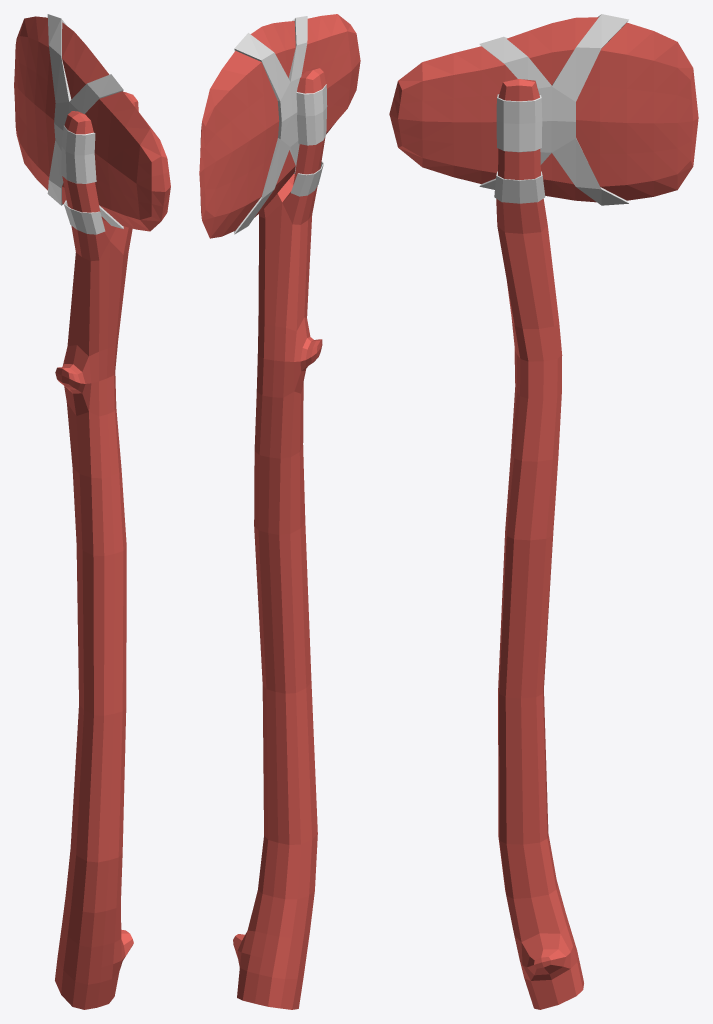
File: stone_axe_a03.fbx
The picture shows the model from 3 angles, left to right: view 1: azimuth 30°, elevation 25°; view 2: azimuth 150°, elevation 25°; view 3: azimuth 270°, elevation 25°; orthographic projection. The views are drawn at different scales.
Visible parts, largest first — view 1: Stiel, Kopf, Leder; view 2: Stiel, Kopf, Leder; view 3: Stiel, Kopf, Leder.
Part boxes in pixels (x1,y1,x2,y2): Stiel: [55, 91, 138, 1009]; Kopf: [14, 16, 170, 231]; Leder: [47, 14, 123, 234]; Stiel: [233, 68, 325, 1009]; Kopf: [199, 14, 360, 238]; Leder: [234, 16, 327, 234]; Stiel: [496, 79, 583, 1009]; Kopf: [389, 17, 698, 202]; Leder: [479, 14, 628, 205].
Size of the model in its own units: 421 by 5054 by 1434.
